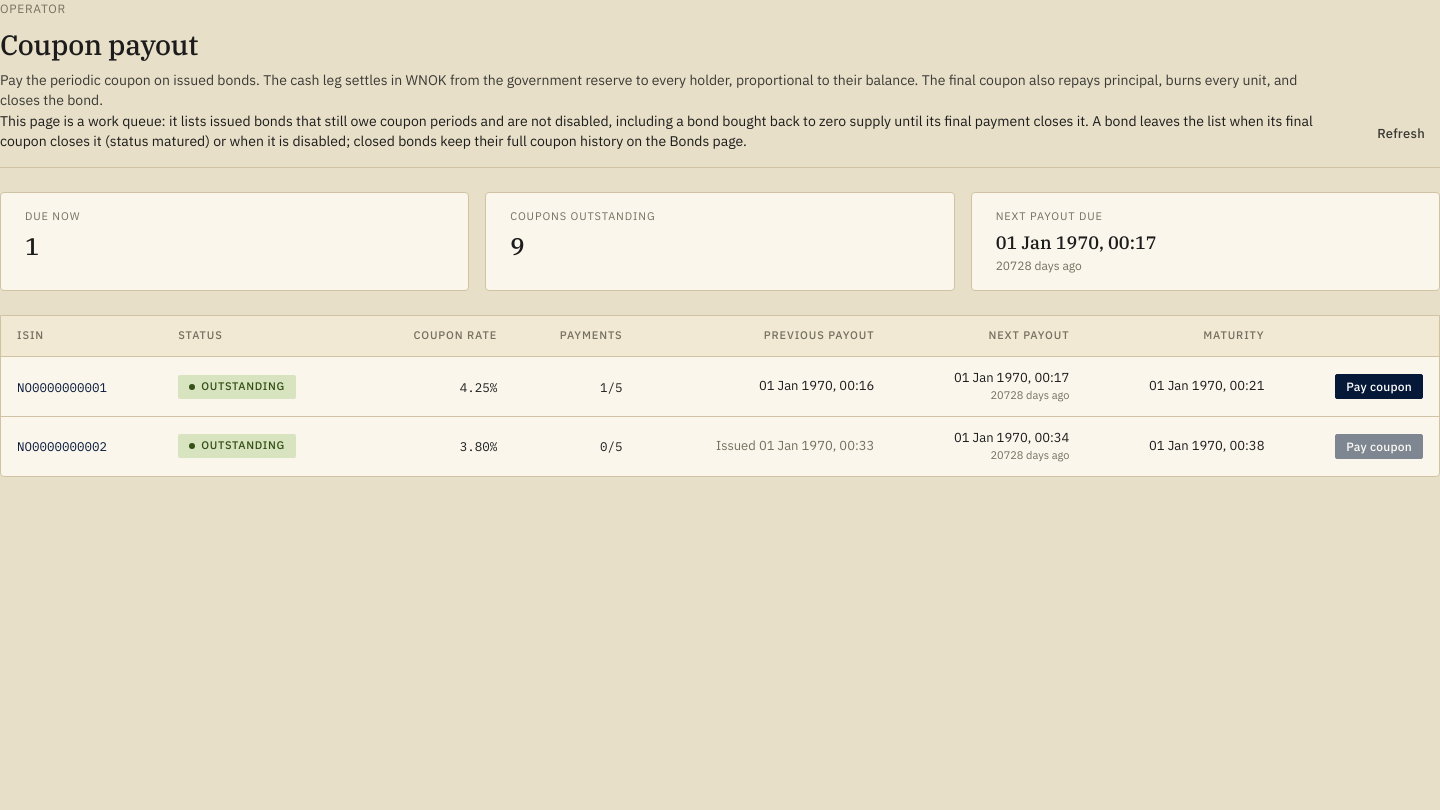
Scenario: CouponPayoutPage › opens the confirmation modal with per-holder amounts and pays on confirm
Check: the link "NO0000000001" is shown, box [17,379,107,395]
Click the button "Pay coupon" in the row of "NO0000000001": [1379, 387] box [1335,374,1423,399]
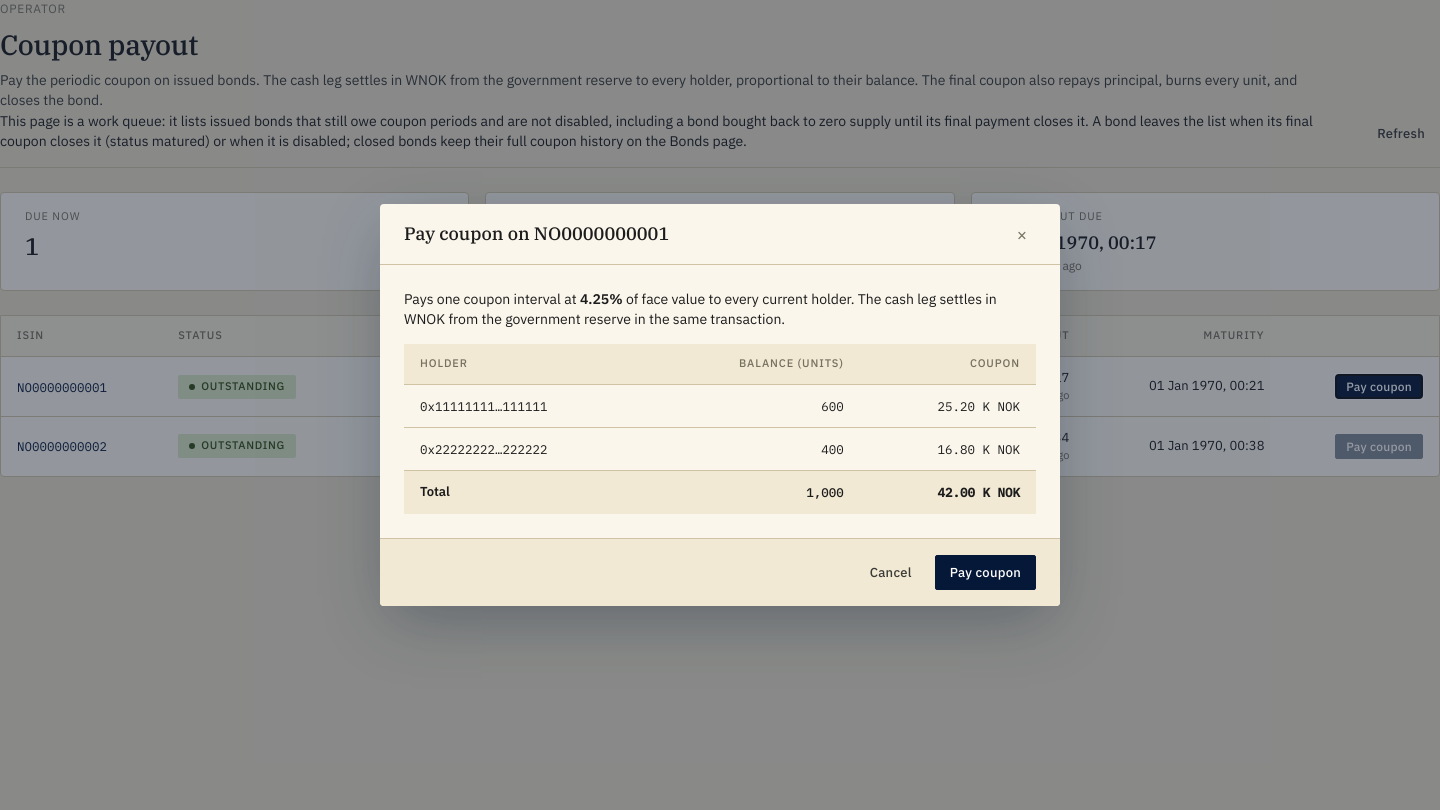
Check: the text "25.20 K NOK" is shown, box [860,384,1036,427]
Check: the text "16.80 K NOK" is shown, box [860,427,1036,470]
Check: the text "42.00 K NOK" is shown, box [938,484,1020,500]
Click the button "Pay coupon": [985, 572] box [935,555,1036,590]
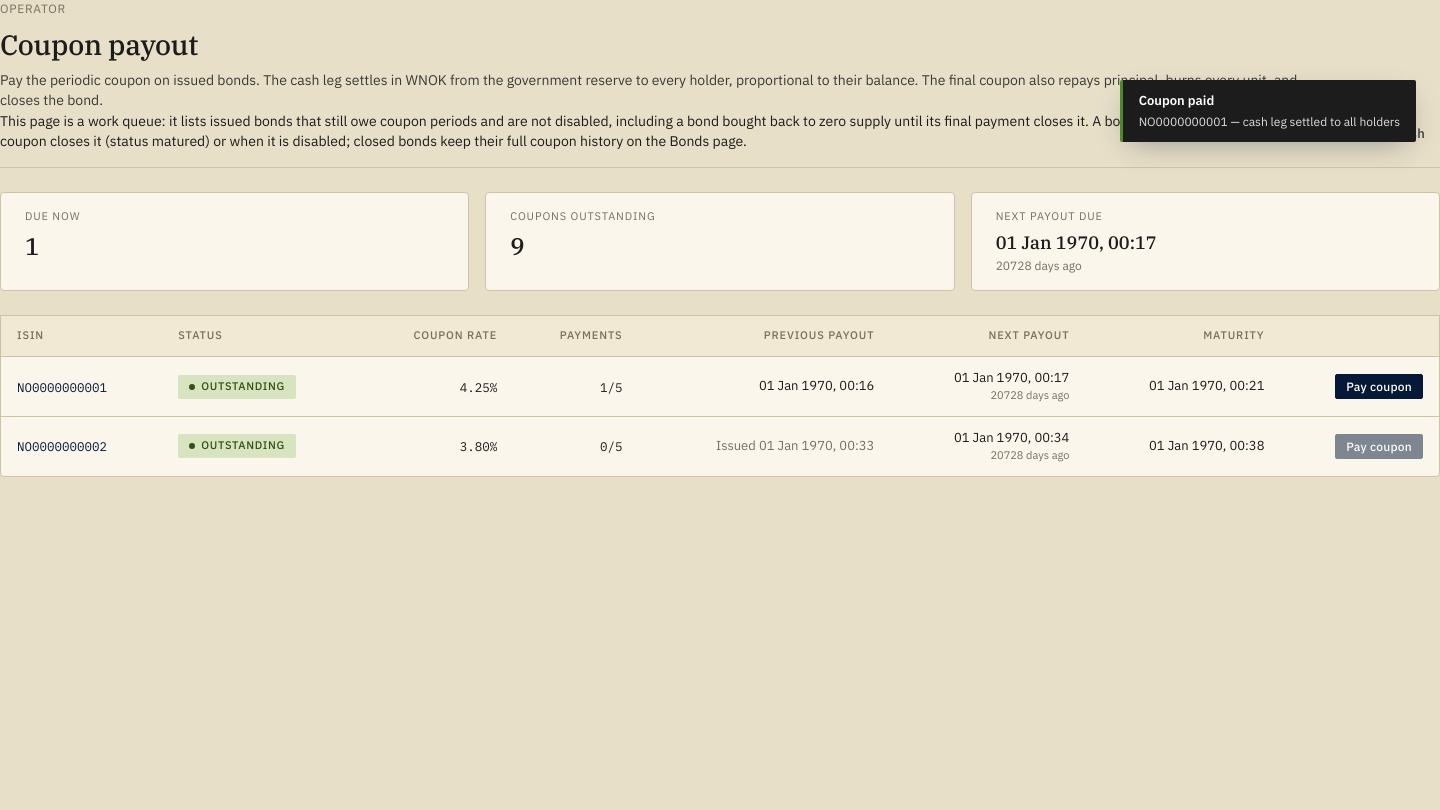
Check: the text "Coupon paid" is shown, box [1139,92,1214,109]
Check: the heading "Pay coupon on NO0000000001" is gone
